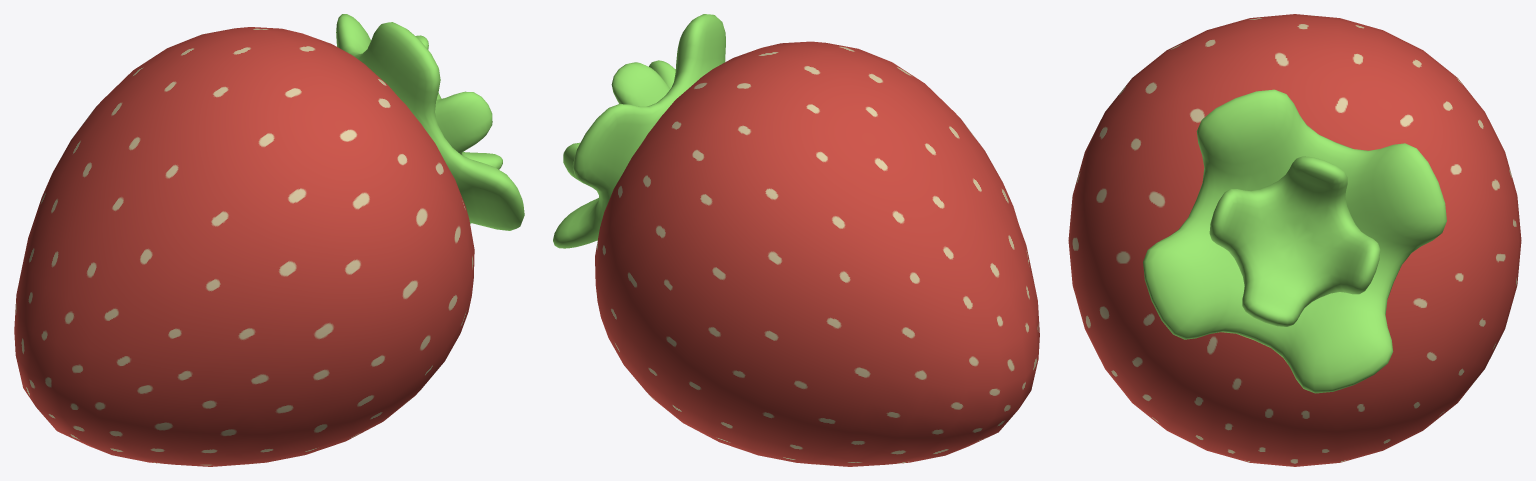
File: morango.fbx
3 renders of one model, left to right at view 1: azimuth 30°, elevation 25°; view 2: azimuth 150°, elevation 25°; view 3: azimuth 270°, elevation 25°, orthographic. The views are drawn at different scales.
Visible parts, largest first — view 1: morango; view 2: morango; view 3: morango.
Part boxes in pixels (x1,y1,x2,y2): morango: (14,14,524,466); morango: (553,14,1039,466); morango: (1068,14,1521,466).
Bounding box in the file's own units: 23.36 × 19.12 × 18.77.
2 materials, 1 textured.
